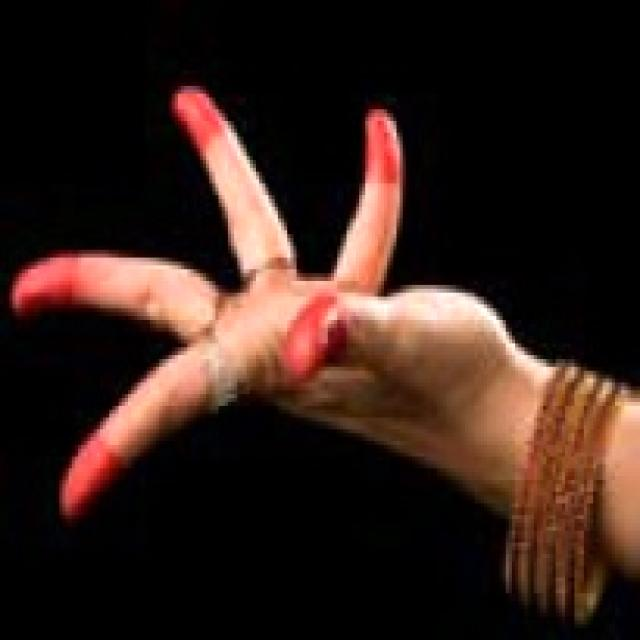Alapadma: (5, 73, 506, 568)
